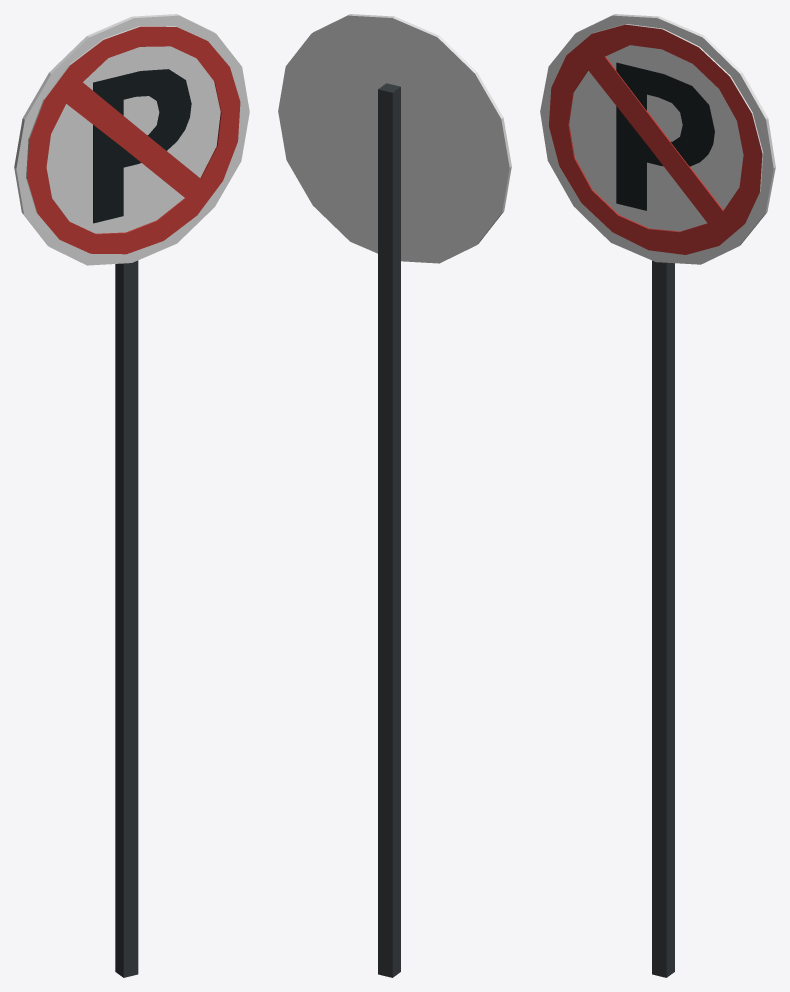
The model's file is SM_FloorProps_RoadSign_14.fbx.
3 renders of one model, left to right at view 1: azimuth 30°, elevation 25°; view 2: azimuth 150°, elevation 25°; view 3: azimuth 330°, elevation 25°, orthographic.
Visible parts, largest first — view 1: SM_FloorProps_RoadSign_14; view 2: SM_FloorProps_RoadSign_14; view 3: SM_FloorProps_RoadSign_14.
Part boxes in pixels (x1,y1,x2,y2): SM_FloorProps_RoadSign_14: (14,14,249,977); SM_FloorProps_RoadSign_14: (278,14,511,977); SM_FloorProps_RoadSign_14: (540,14,775,977).
Size of the model in its own units: 0.6843 by 2.69 by 0.0589.
